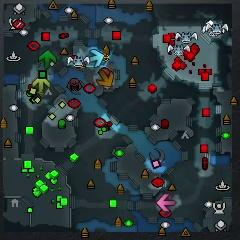x1: (157, 193, 176, 211)
x2: (32, 76, 51, 93)
x3: (89, 49, 103, 67)
x4: (39, 50, 56, 68)
x5: (98, 70, 114, 87)
